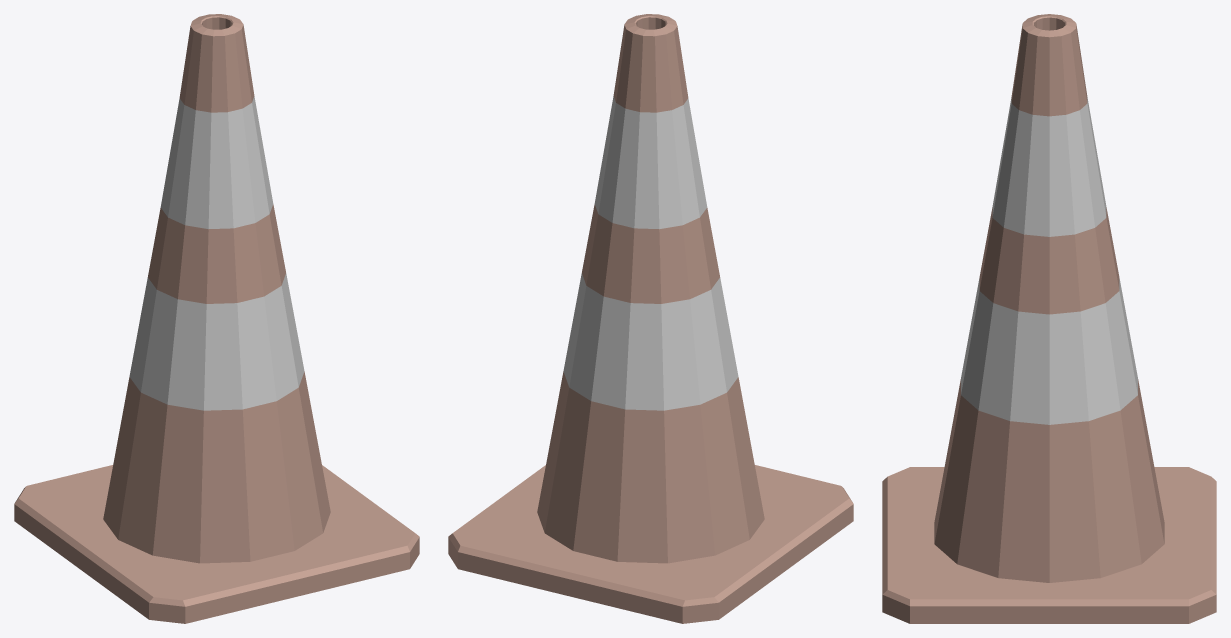
Rendered from corn.fbx.
The picture shows the model from 3 angles, left to right: view 1: azimuth 30°, elevation 25°; view 2: azimuth 150°, elevation 25°; view 3: azimuth 270°, elevation 25°; orthographic projection. The views are drawn at different scales.
Parts seen in each view (by area): view 1: cone; view 2: cone; view 3: cone.
Part boxes in pixels (<box>): cone: <box>14,14,419,623</box>; cone: <box>448,14,853,623</box>; cone: <box>882,14,1216,623</box>.
Size of the model in its own units: 341 by 619 by 352.
